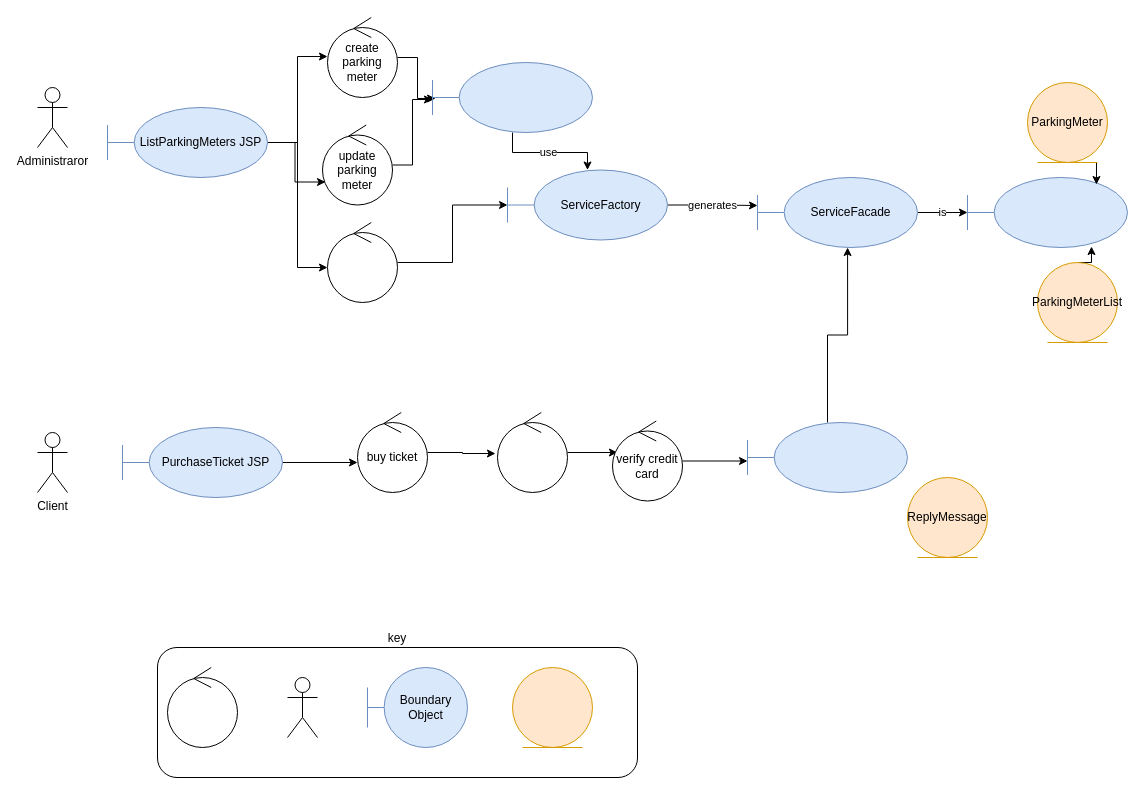
This 1145x795 diagram has some shape labels left out. The shapes that lost their labels are listed below. From the top down, each one's centre as x and y in pixels, then its label:
the point at 512,97: AddOrModify ParkingMeter JSP
the point at 1047,212: parkingMeterDAO
the point at 362,262: delete parking meter
the point at 532,452: calculate total payment amout
the point at 827,457: RestInterface
the point at 202,707: Control Object
the point at 302,707: Actor
the point at 552,707: Entity Object
